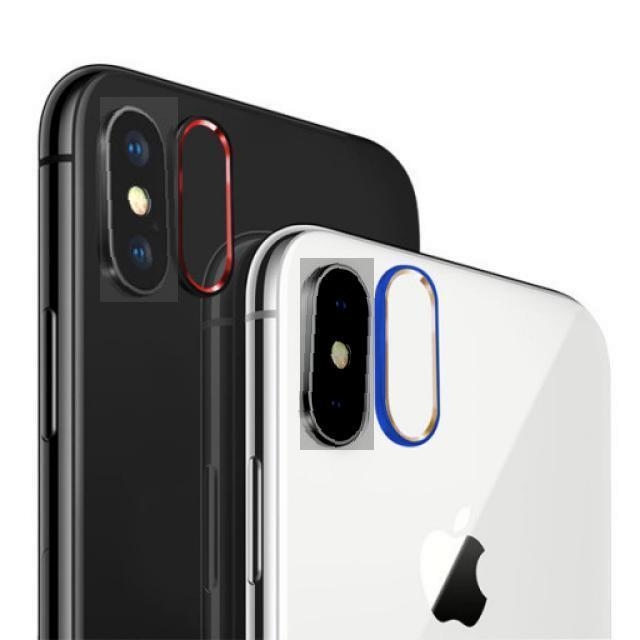lens_back: (315, 389, 366, 441), (312, 292, 369, 338), (122, 228, 166, 286), (118, 128, 164, 176)
